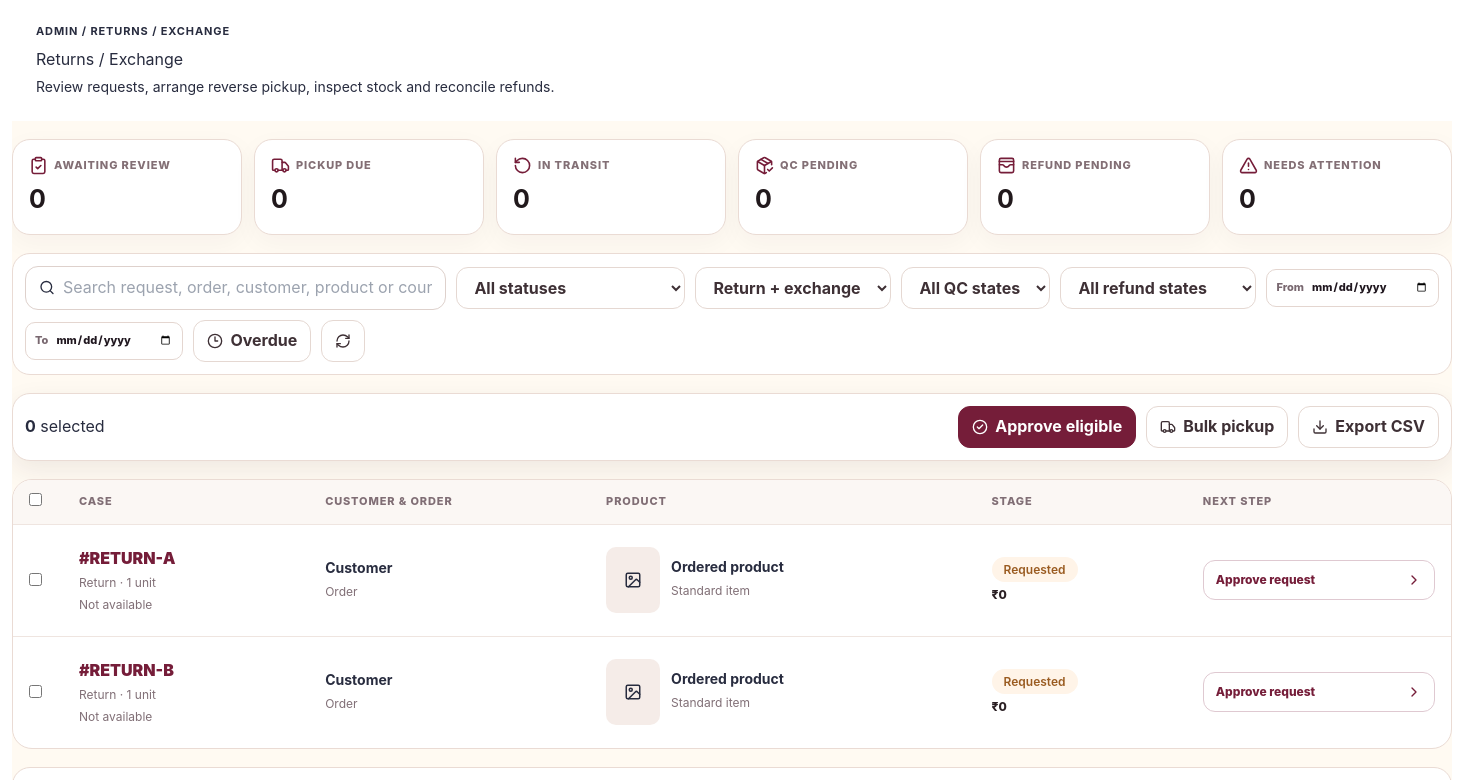
Test: a partial bulk return failure preserves the successful update and reports the failed case
Expected: the button "#RETURN-A" is shown, [79, 547, 175, 570]
Click the checkbox named "Select page": (36,499) [29, 493, 42, 506]
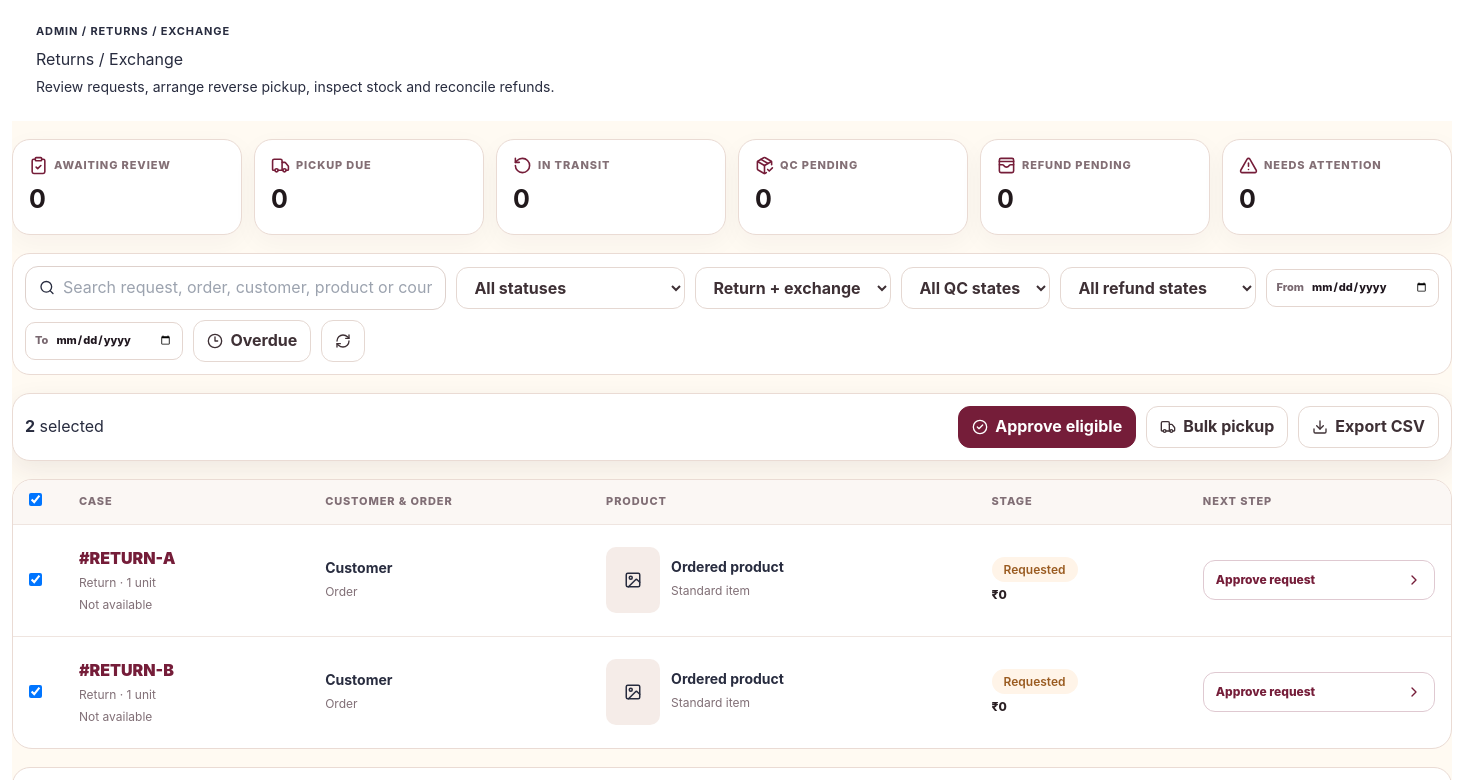
Click the button "Approve eligible": (1047,427) [958, 406, 1136, 448]
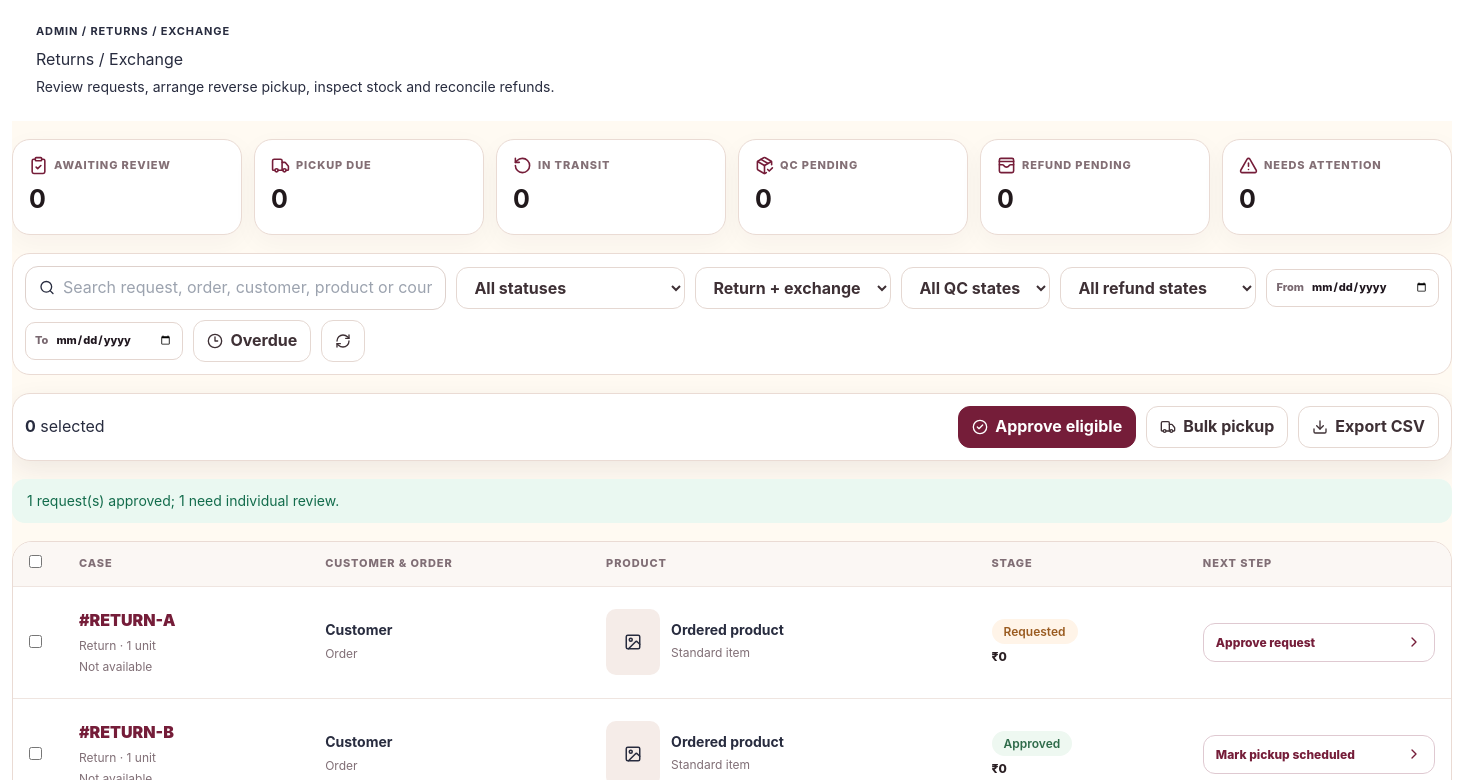
Result: the message shows "1 request(s) approved; 1 need individual review" at [27, 492, 339, 509]
Result: the button "Mark pickup scheduled" is shown at [1203, 735, 1435, 774]
